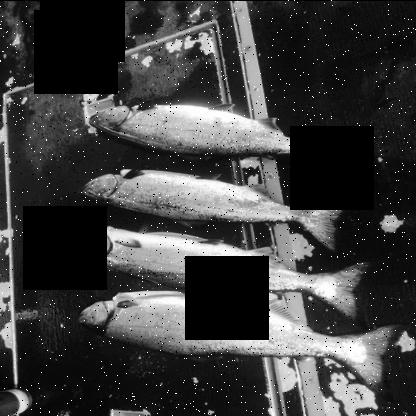fish: (77, 288, 401, 397), (78, 224, 370, 326), (87, 101, 367, 185), (80, 166, 350, 252)
